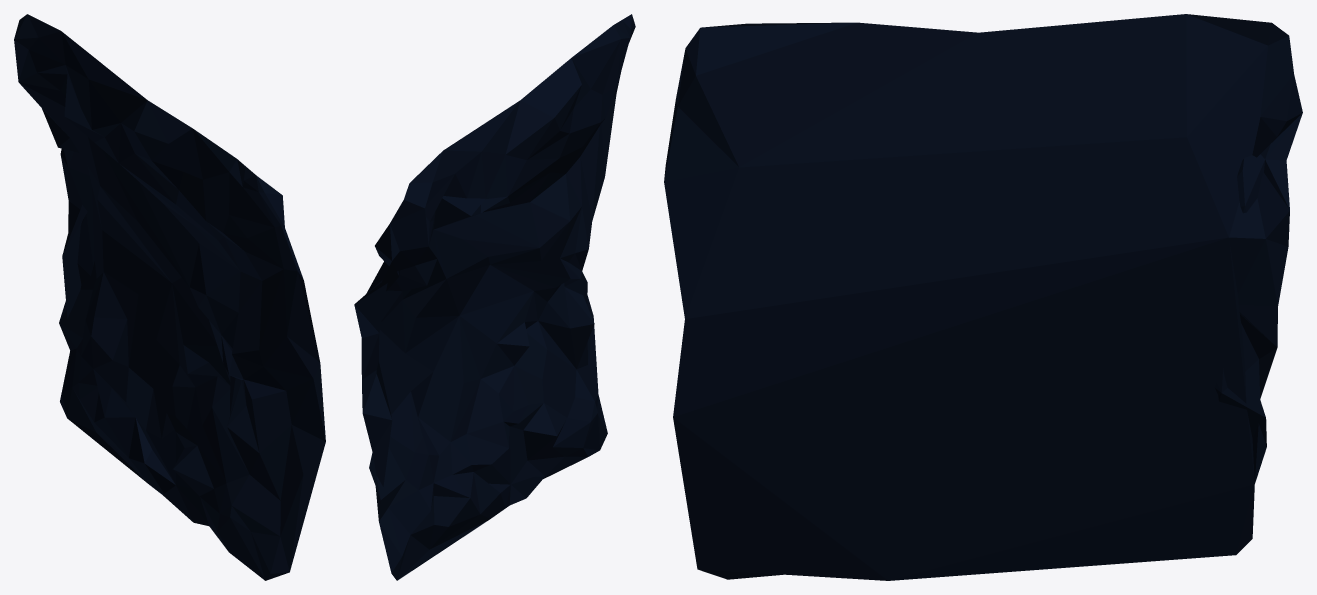
File: CaveWall1.fbx
3 renders of one model, left to right at view 1: azimuth 30°, elevation 25°; view 2: azimuth 150°, elevation 25°; view 3: azimuth 270°, elevation 25°, orthographic. The views are drawn at different scales.
Parts seen in each view (by area): view 1: CaveWall1; view 2: CaveWall1; view 3: CaveWall1.
Part boxes in pixels (x1,y1,x2,y2): CaveWall1: (14,14,325,580); CaveWall1: (354,14,635,580); CaveWall1: (664,14,1302,580).
Bounding box in the file's own units: 151 × 739 × 780.
